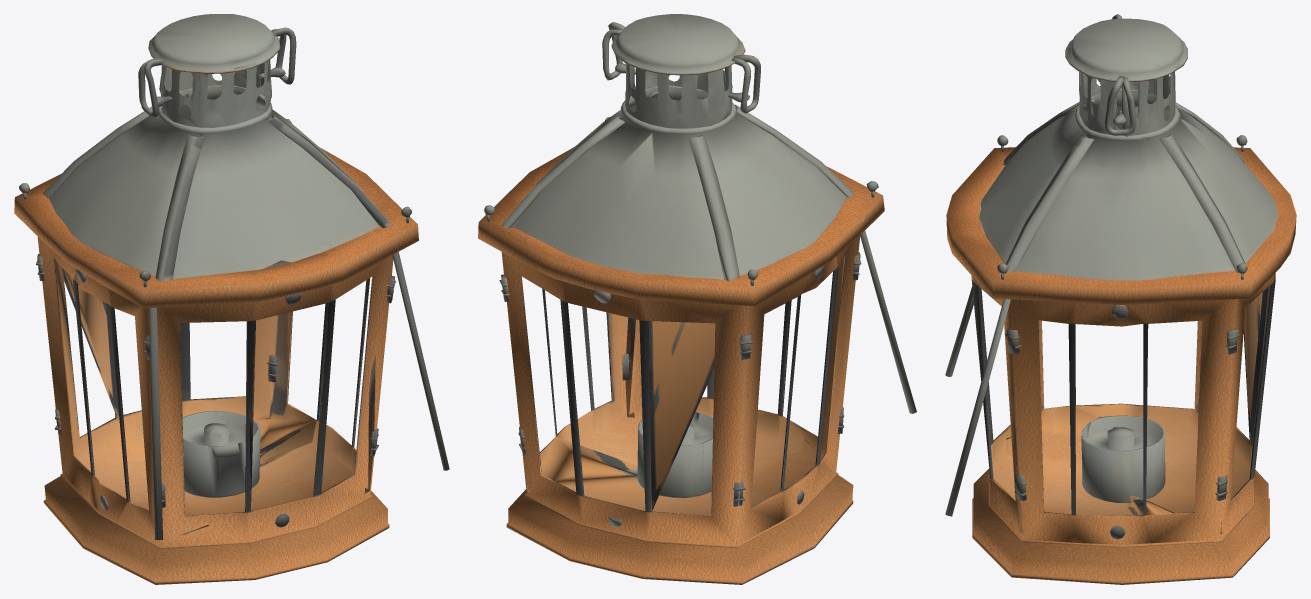
File: stable_lantern.glb
3 views of the same model, side by side, from view 1: azimuth 30°, elevation 25°; view 2: azimuth 150°, elevation 25°; view 3: azimuth 270°, elevation 25° (orthographic).
Visible parts, largest first — view 1: stable_lantern; view 2: stable_lantern; view 3: stable_lantern.
Part boxes in pixels (box(x1,y1,x2,y2)): stable_lantern: box(14, 14, 449, 584); stable_lantern: box(478, 14, 916, 584); stable_lantern: box(945, 14, 1296, 584).
Bounding box in the file's own units: 0.2754 × 0.42 × 0.2799.
1 material, 1 textured.
